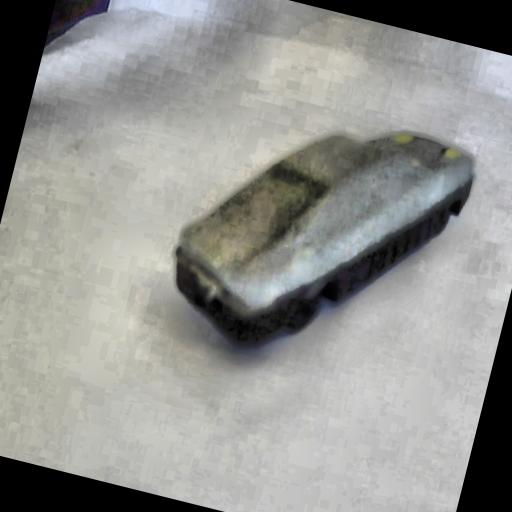normal_car: (150, 83, 482, 395)
